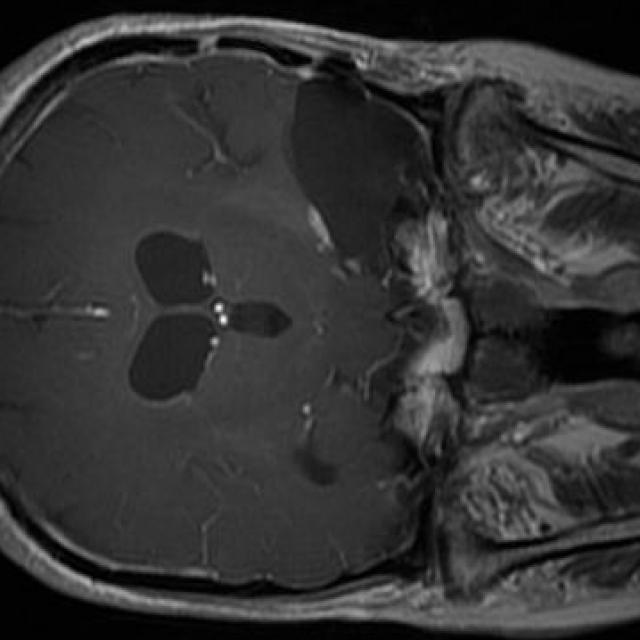glioma: (291, 82, 430, 280)
